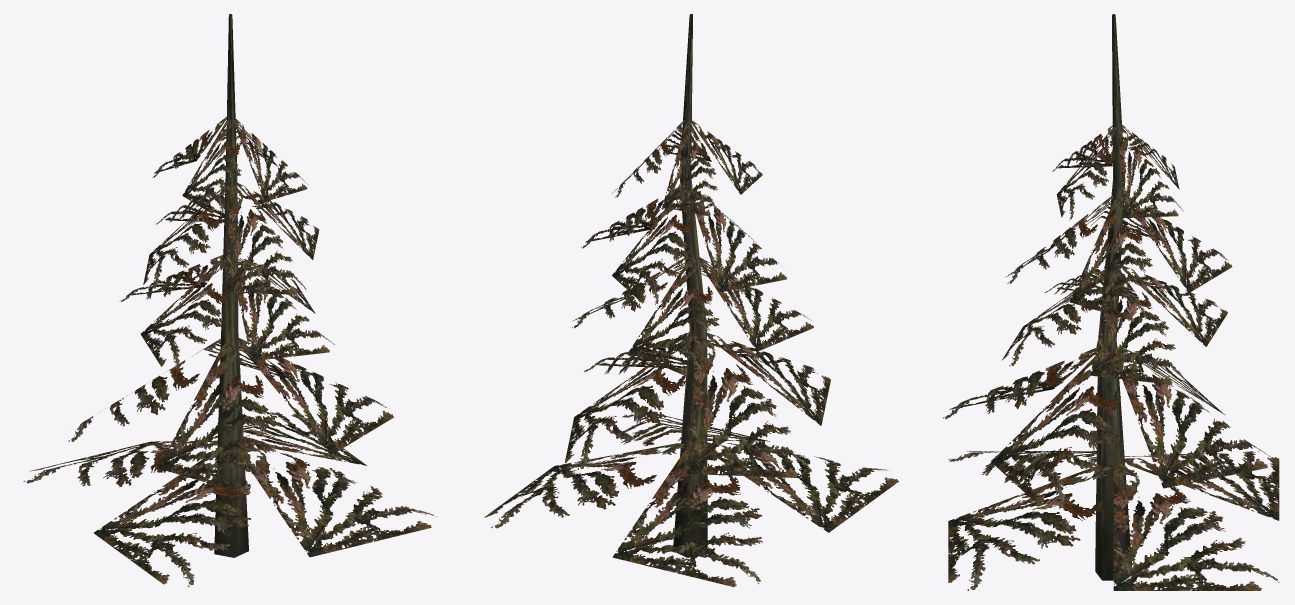
The model's file is INST_OH_PINE_01.obj.
3 views of the same model, side by side, from view 1: azimuth 30°, elevation 25°; view 2: azimuth 150°, elevation 25°; view 3: azimuth 270°, elevation 25° (orthographic). The views are drawn at different scales.
Parts seen in each view (by area): view 1: Inst_PineTree_; view 2: Inst_PineTree_; view 3: Inst_PineTree_.
Boxes of the visible parts, x1,y1,x2,y2 form: Inst_PineTree_: [23, 14, 436, 586]; Inst_PineTree_: [484, 14, 898, 586]; Inst_PineTree_: [943, 14, 1279, 590].
Bounding box in the file's own units: 88.04 × 158 × 88.04.
